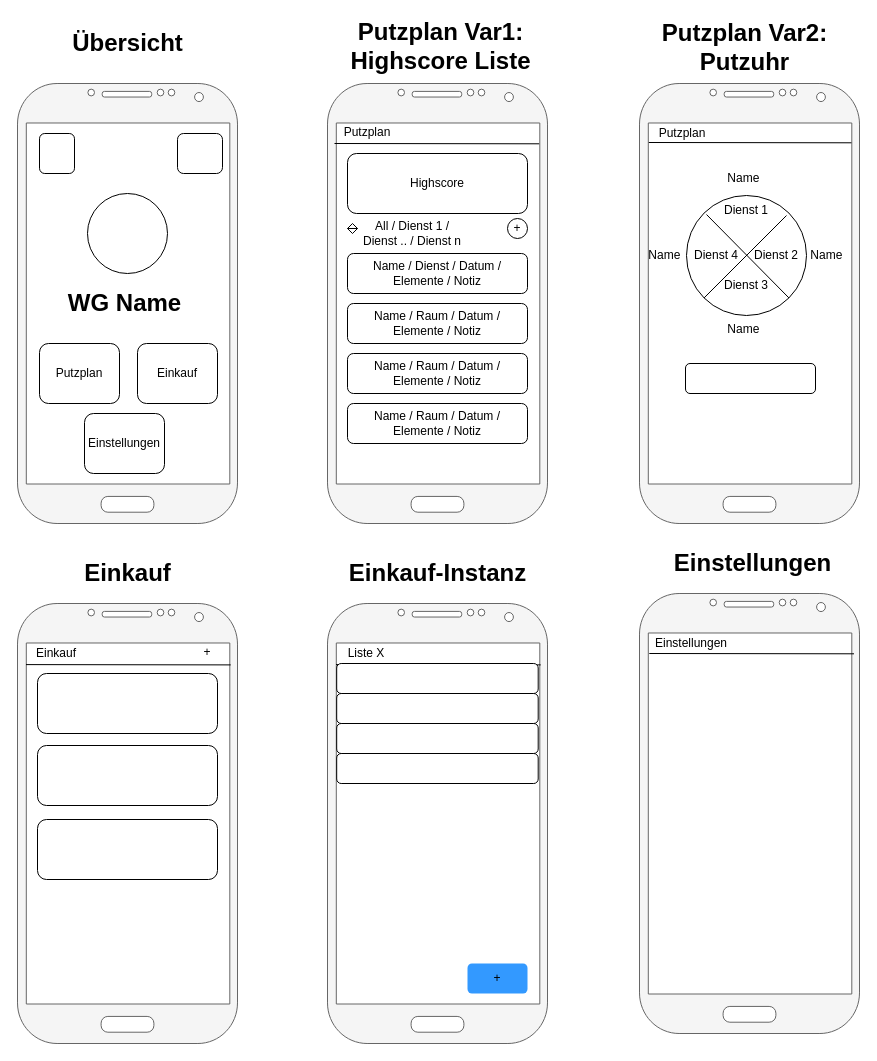
Image size: 877x1061. Some labels were removed from this diagram. Here are the shapes that lost their labels. From the top down, the box of each, then its label:
(38, 132, 74, 174): Toilett- status
(176, 132, 222, 174): WGBS
(86, 192, 168, 274): WG BILD
(684, 362, 816, 394): Dienst erledigt
